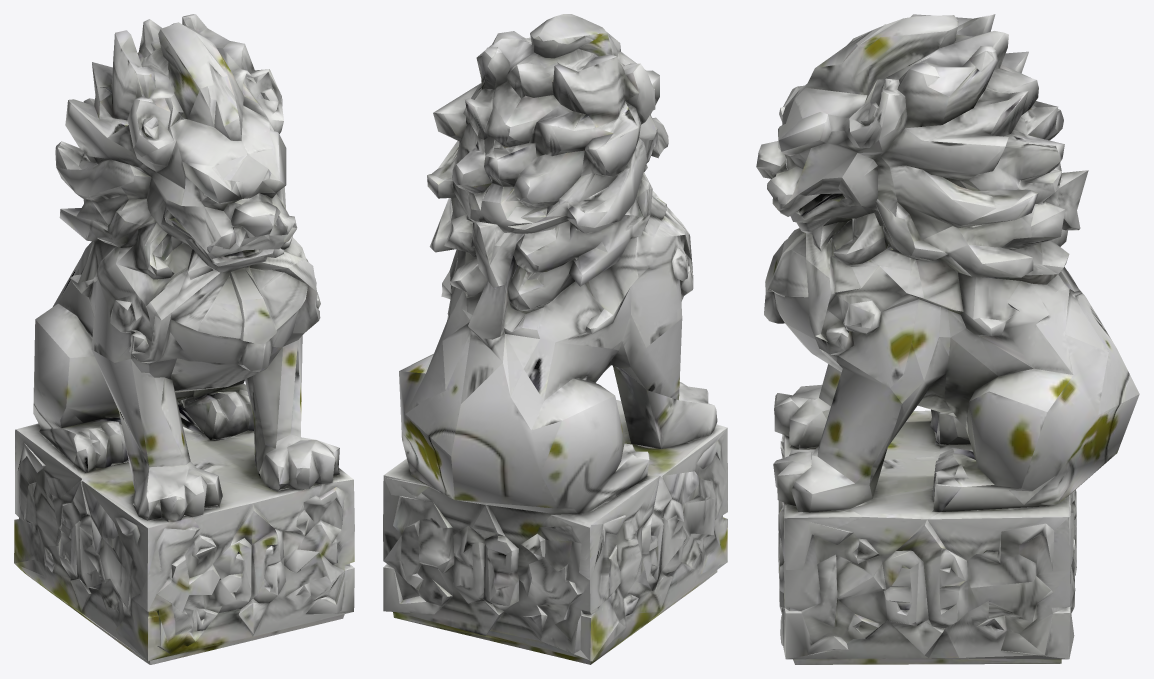
File: guardian-lion.glb
The picture shows the model from 3 angles, left to right: view 1: azimuth 30°, elevation 25°; view 2: azimuth 150°, elevation 25°; view 3: azimuth 270°, elevation 25°; orthographic projection. The views are drawn at different scales.
Size of the model in its own units: 0.7568 by 1.9 by 1.1.
Materials: 1 (1 with a texture image).
